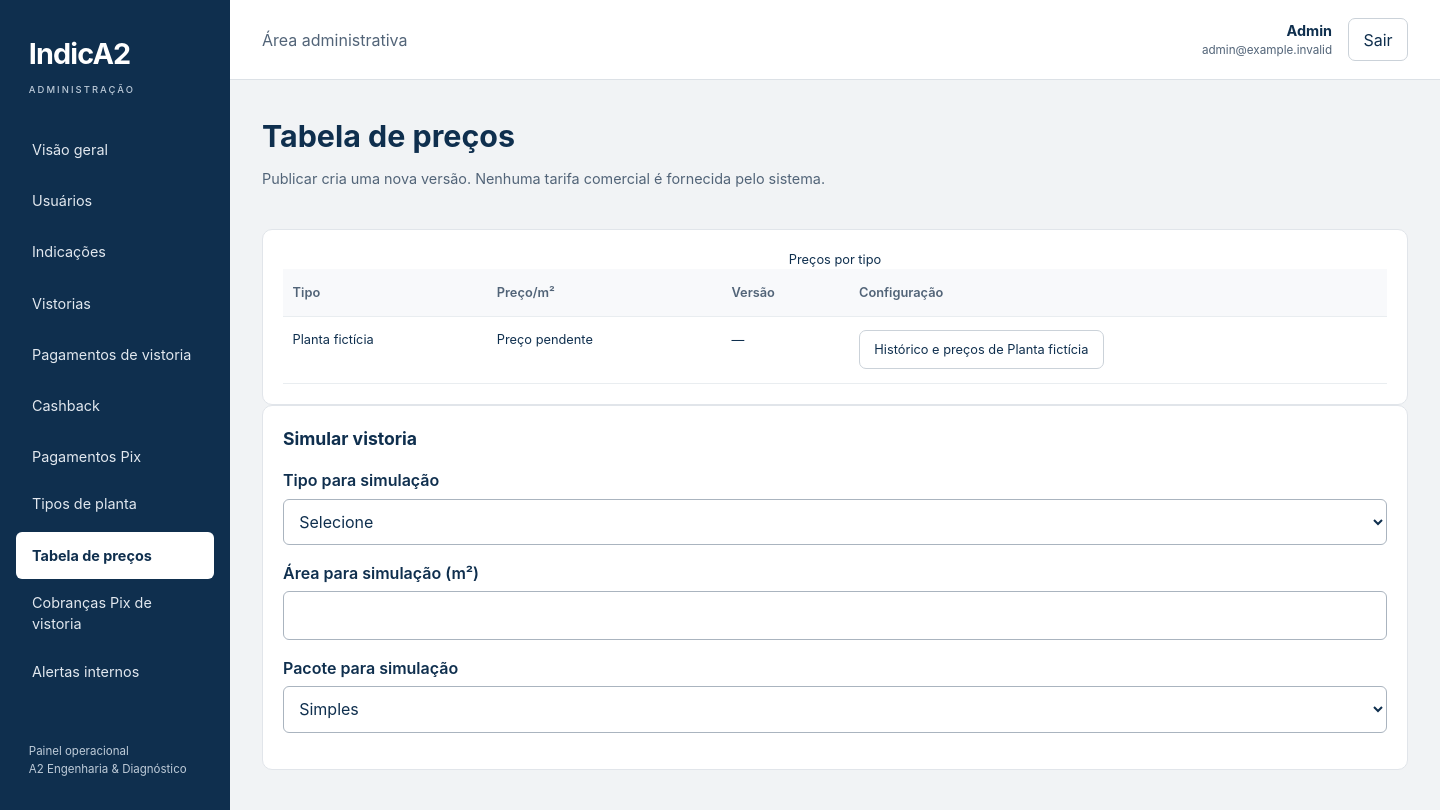
Scenario: cadastro primeiro preço não usa tarifa pré-preenchida
Click the button "Histórico e preços de Planta fictícia": (981, 350) [859,330,1104,369]
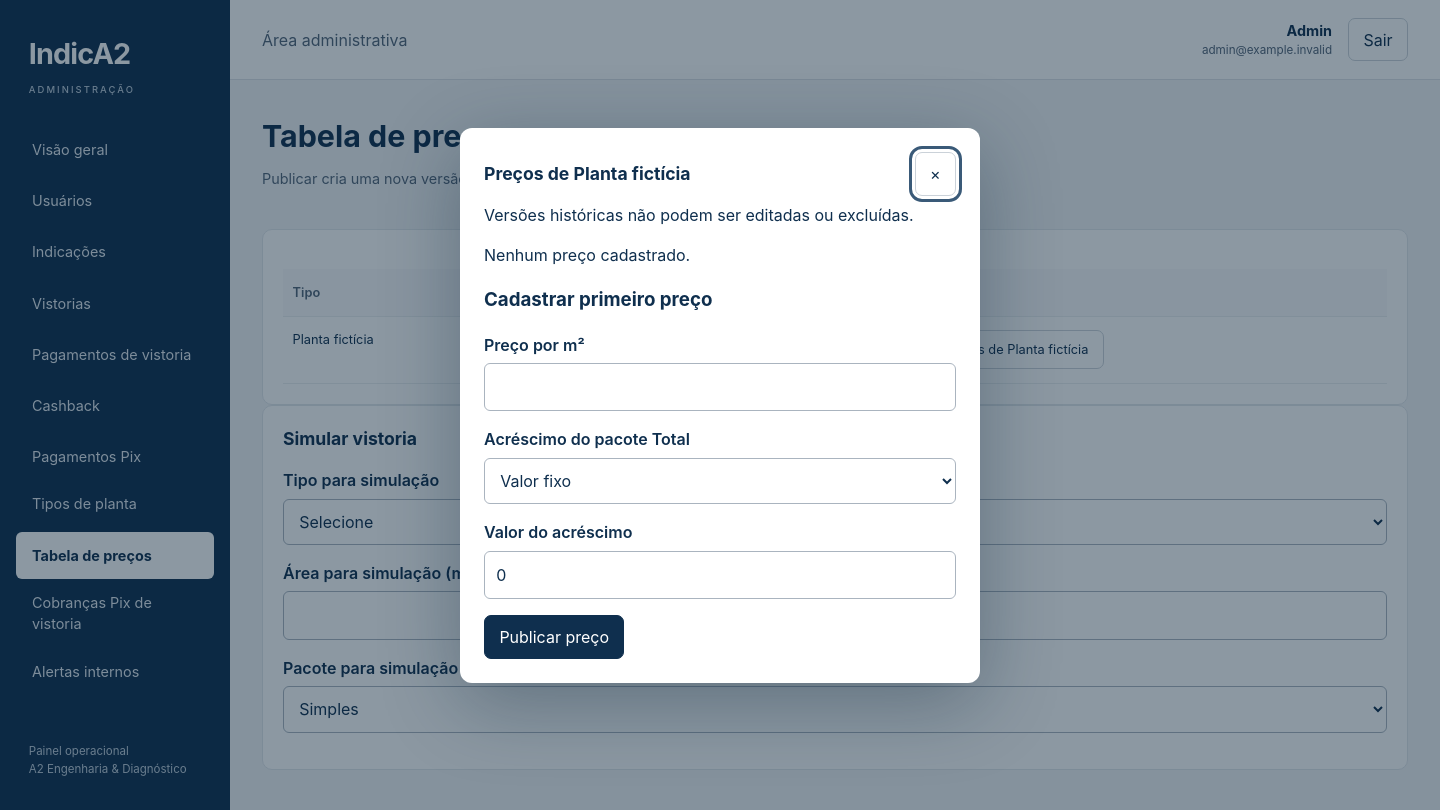
Expected: the heading "Cadastrar primeiro preço" is shown, [484,288,712,311]
Expected: the number field labelled "Preço por m²" is not empty, [484,363,956,411]
